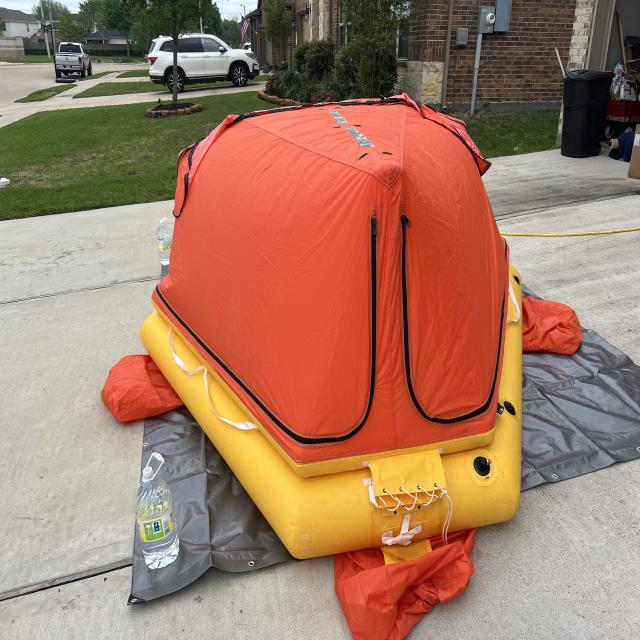Multi-person_life_raft: (100, 90, 584, 638)
